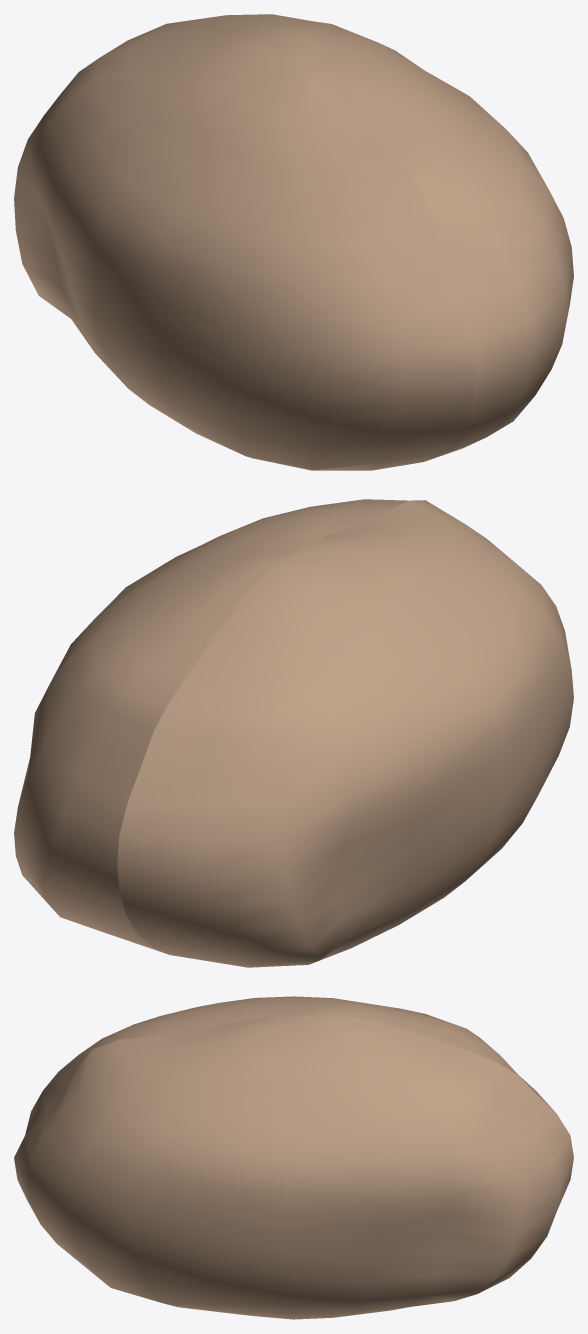
The model's file is potatov2.fbx.
3 views of the same model, one above another, from view 1: azimuth 30°, elevation 25°; view 2: azimuth 150°, elevation 25°; view 3: azimuth 270°, elevation 25° (orthographic). The views are drawn at different scales.
Parts seen in each view (by area): view 1: pasted__polySurface3; view 2: pasted__polySurface3; view 3: pasted__polySurface3.
Boxes of the visible parts, x1,y1,x2,y2 form: pasted__polySurface3: [14, 14, 573, 470]; pasted__polySurface3: [14, 499, 573, 967]; pasted__polySurface3: [14, 996, 573, 1319].
Bounding box in the file's own units: 2.73 × 2.33 × 4.15.
